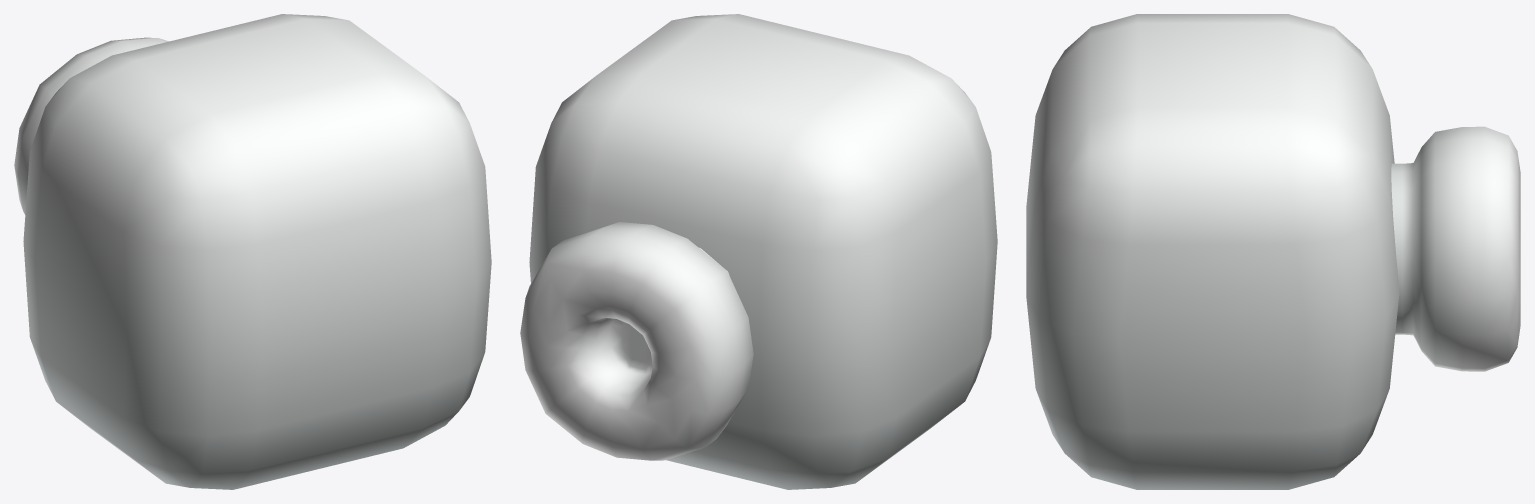
File: ShooterBlock.fbx
The picture shows the model from 3 angles, left to right: view 1: azimuth 30°, elevation 25°; view 2: azimuth 150°, elevation 25°; view 3: azimuth 270°, elevation 25°; orthographic projection.
Visible parts, largest first — view 1: ShooterBlock; view 2: ShooterBlock; view 3: ShooterBlock.
Boxes of the visible parts, bbox=[...] form: ShooterBlock: bbox=[14, 14, 491, 489]; ShooterBlock: bbox=[520, 14, 997, 489]; ShooterBlock: bbox=[1026, 14, 1520, 489].
Bounding box in the file's own units: 100 × 100 × 120.
